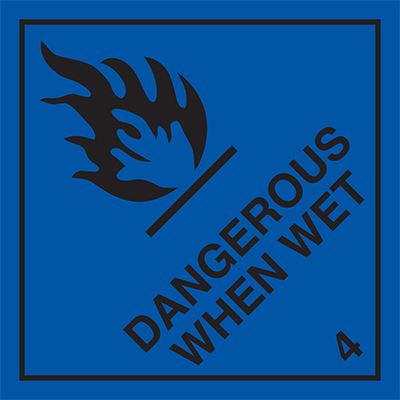Dangerous when wet: (1, 1, 400, 400)
